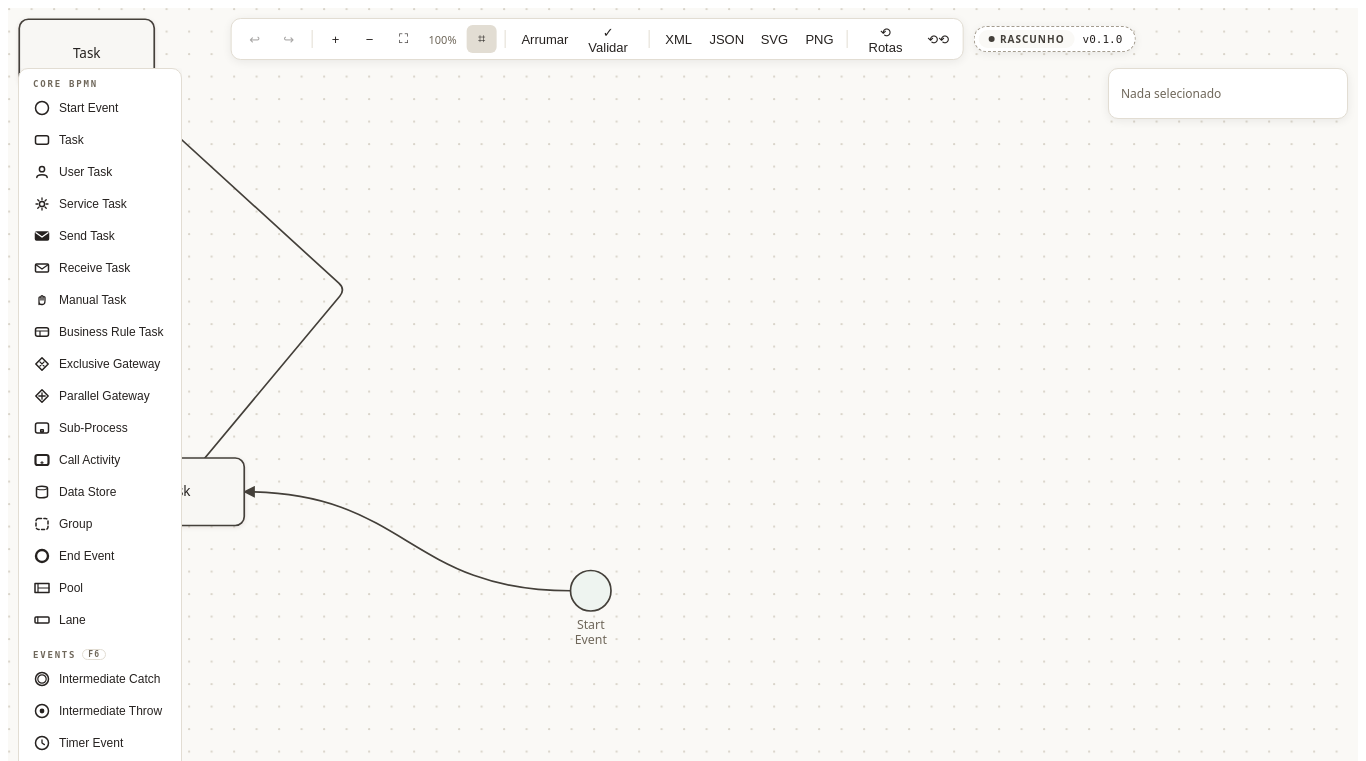
Test case: layout proposal card (spec 1e) › shows the counts in the mock format and target-position ghosts
Click the button with aria-label "Arrumar o diagrama automaticamente" at (543, 39), box [514,25,572,53]
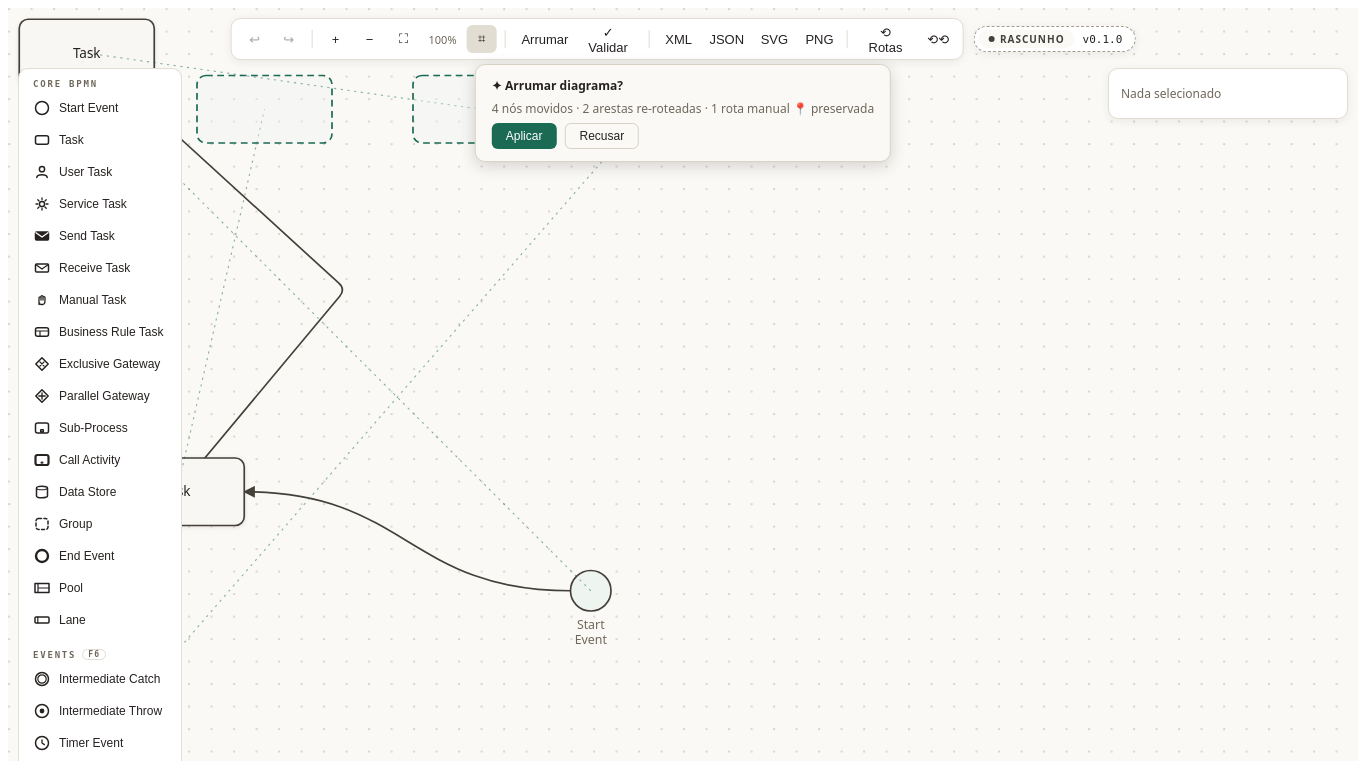
Now the text with test id "layout-counts" reads "4 nós movidos · 2 arestas re-roteadas · 1 rota manual 📍 preservada", box [492,100,874,117]
